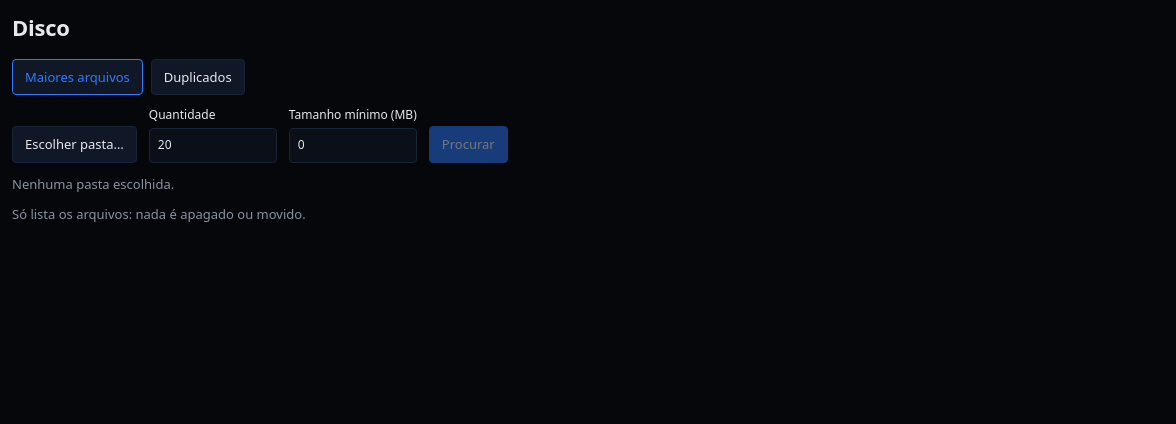
Test: Disco › duplicados mostram o espaço desperdiçado e não oferecem apagar
The image size is (1176, 424).
Click the tab "Duplicados" at (198, 77), box x1=151 y1=59 x2=245 y2=95
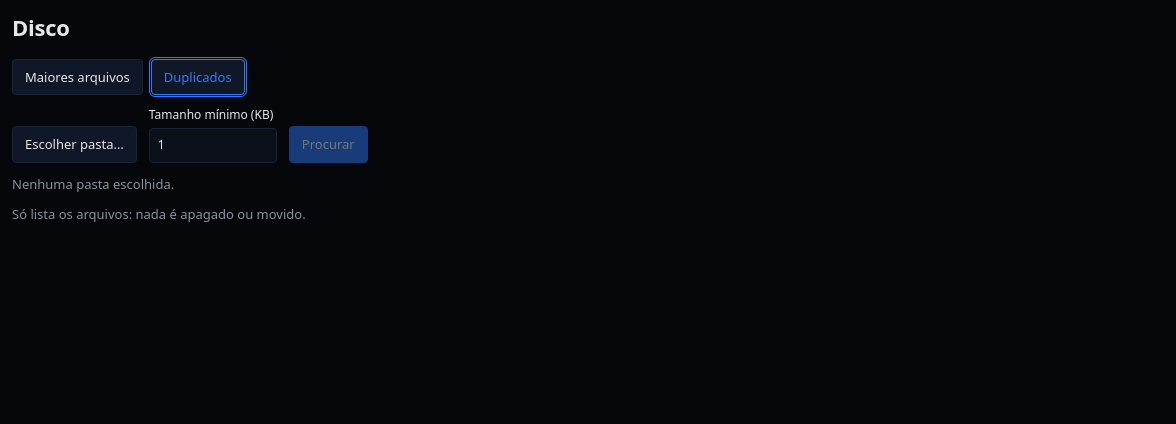
Click the button "Escolher pasta…" at (74, 144), box x1=12 y1=126 x2=137 y2=163
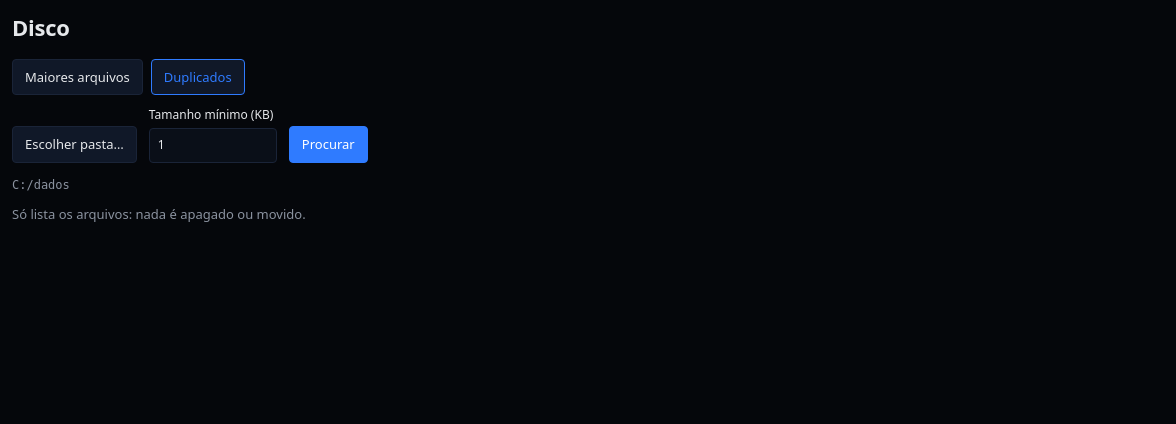
Expected: the text "C:/dados" is shown, x1=12 y1=178 x2=70 y2=192
Click the button "Procurar" at (328, 144), box x1=289 y1=126 x2=368 y2=163
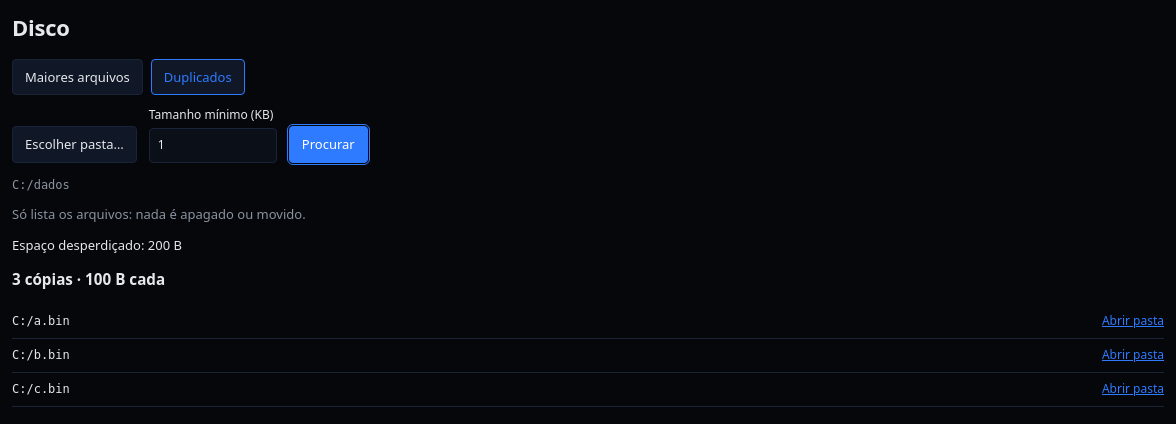
Expected: the text "Espaço desperdiçado: 200 B" is shown, x1=12 y1=236 x2=182 y2=254
Expected: the number of buttons "Abrir pasta" is 3, x1=1102 y1=313 x2=1164 y2=330; x1=1102 y1=347 x2=1164 y2=364; x1=1102 y1=381 x2=1164 y2=398
